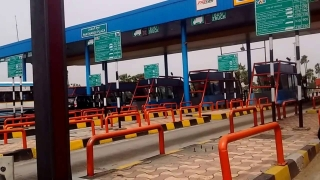toll plaza: (69, 1, 320, 96)
